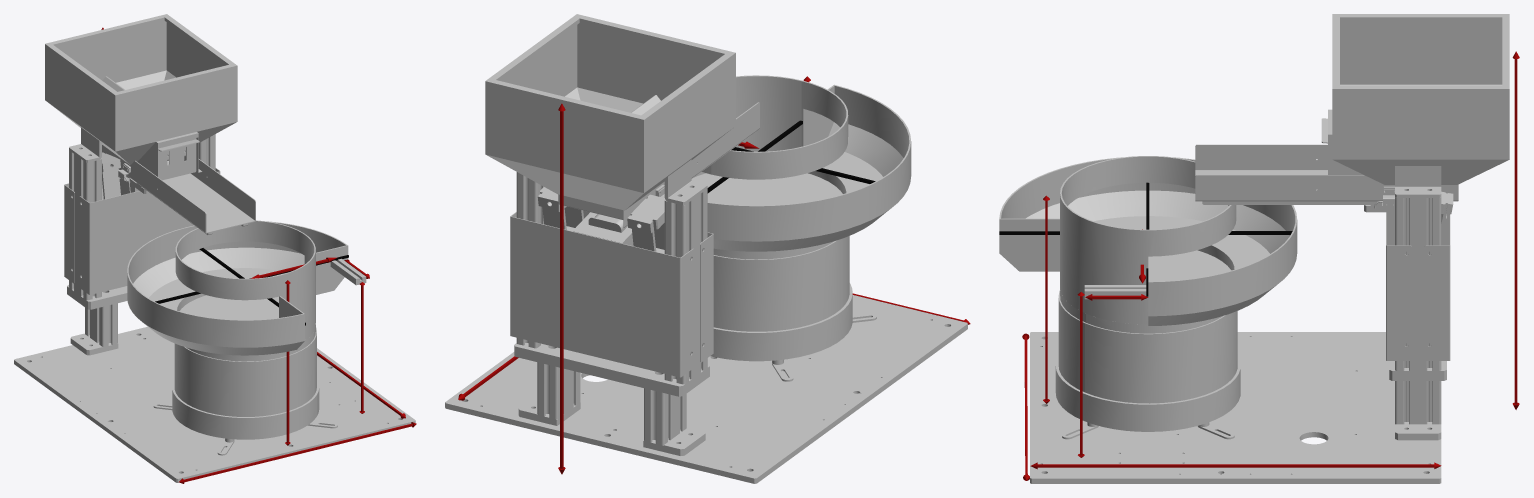
Rendered from set-b.glb.
3 views of the same model, side by side, from view 1: azimuth 30°, elevation 25°; view 2: azimuth 150°, elevation 25°; view 3: azimuth 270°, elevation 25° (orthographic). The views are drawn at different scales.
Parts seen in each view (by area): view 1: empty_3, empty_2, empty_7, empty_4, empty_21, empty_23, empty_16, empty_15, empty_50, empty_22, Cube.004, empty_17 (+5 smaller); view 2: empty_7, empty_2, empty_3, empty_22, empty_4, empty_17, empty_16, empty_23, empty_50, empty_51, empty_21, Cube (+6 smaller); view 3: empty_2, empty_3, empty_7, empty_4, empty_23, empty_18, empty_22, empty_21, empty_51, Cube.003, empty_13, Cube (+4 smaller).
Part boxes in pixels (x1,y1,x2,y2): empty_3: (127,220,366,355); empty_2: (14,326,415,482); empty_7: (45,14,237,176); empty_4: (153,324,337,455); empty_21: (79,168,220,294); empty_23: (102,145,255,233); empty_16: (69,150,101,300); empty_15: (158,139,199,180); empty_50: (85,303,117,347); empty_22: (64,183,74,283); Cube.004: (179,422,416,483); empty_17: (67,285,127,309); empty_7: (485,14,735,210); empty_2: (445,295,967,483); empty_3: (691,75,911,251); empty_22: (510,212,694,377); empty_4: (710,236,876,381); empty_17: (514,343,709,396); empty_16: (664,189,707,384); empty_23: (558,102,759,227); empty_50: (644,388,686,445); empty_51: (537,362,580,419); empty_21: (583,210,713,362); Cube: (558,103,565,474); empty_2: (1030,332,1441,483); empty_3: (999,156,1297,325); empty_7: (1328,14,1509,184); empty_4: (1055,288,1240,439); empty_23: (1195,144,1458,201); empty_18: (1395,197,1441,370); empty_22: (1424,213,1450,360); empty_21: (1386,212,1411,360); empty_51: (1395,381,1441,424); Cube.003: (1030,462,1441,469); empty_13: (1395,166,1441,197); Cube: (1512,51,1519,409).
Bounding box in the file's own units: 345 × 393 × 516.
